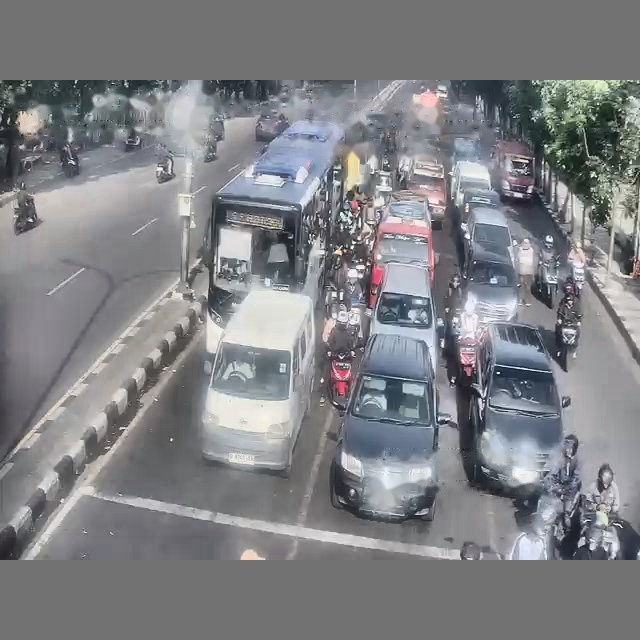Bis: (203, 120, 344, 373)
Mobil: (329, 334, 450, 520), (469, 322, 570, 496), (462, 245, 518, 324), (460, 206, 516, 262), (455, 189, 501, 226), (255, 110, 284, 141), (208, 112, 224, 141)
Motor: (327, 351, 355, 408), (556, 317, 580, 371), (536, 257, 559, 308), (456, 336, 477, 387), (13, 198, 37, 234), (571, 261, 584, 297), (155, 161, 174, 183), (62, 156, 79, 177), (124, 135, 142, 152)
